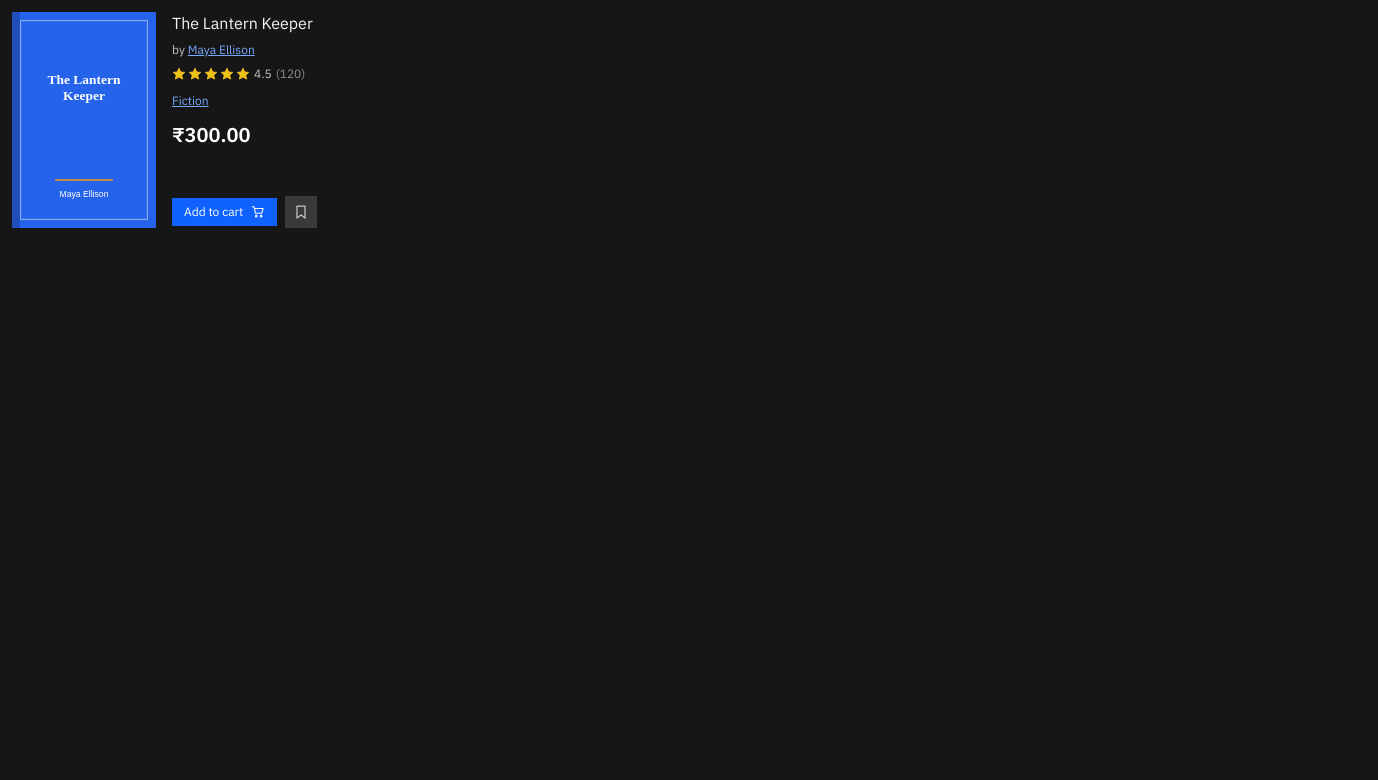
Test case: BookCard › sends guests to the login page instead of adding
Click the button with aria-label "Add The Lantern Keeper to cart": (225, 212) x1=172 y1=198 x2=277 y2=226
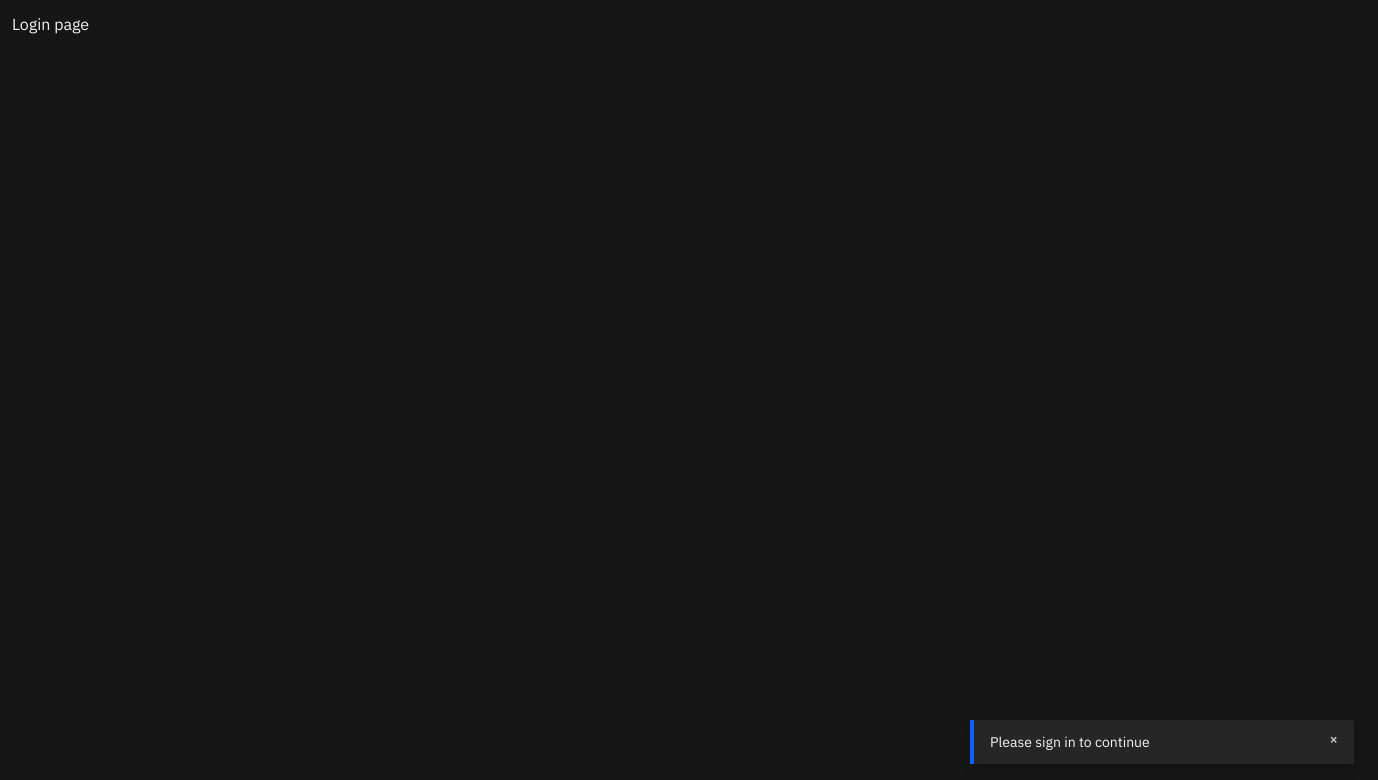
Now the text "Login page" is shown, box x1=12 y1=14 x2=89 y2=34
